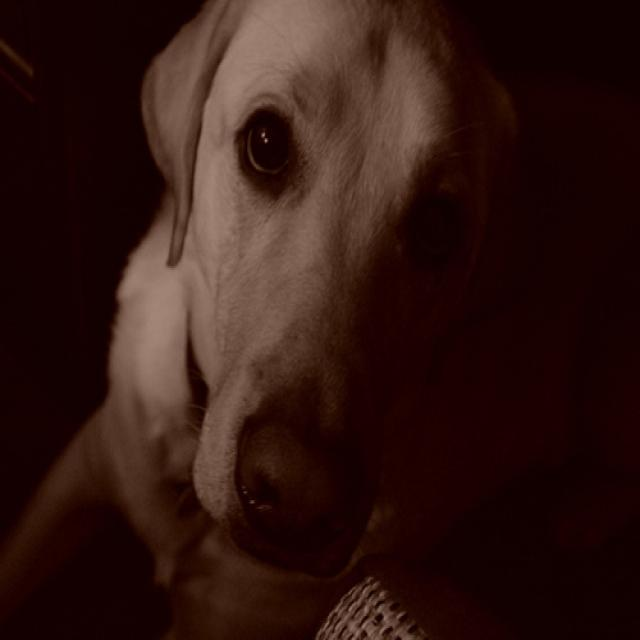Dog: (47, 0, 565, 614)
